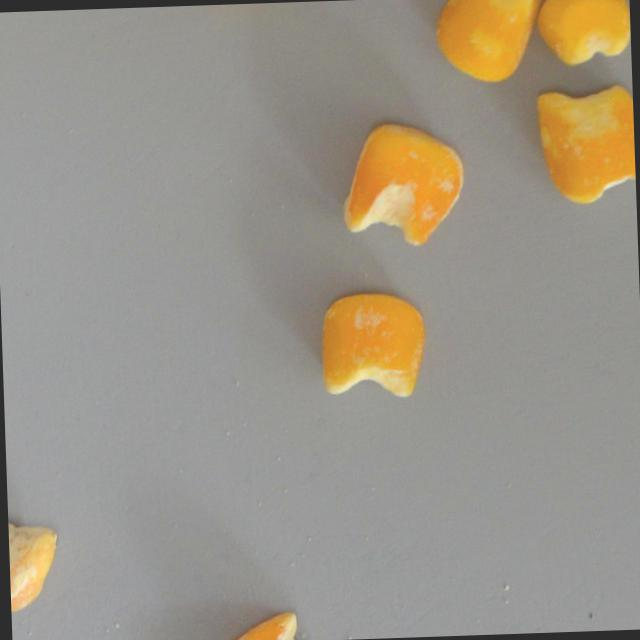dañado: (7, 510, 62, 616)
pelicula: (335, 111, 470, 254), (311, 287, 430, 407), (530, 78, 636, 209), (429, 0, 545, 85), (533, 0, 631, 69), (214, 604, 333, 640)
